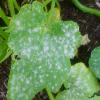Squash Powdery mildew leaf: (6, 2, 84, 99)
